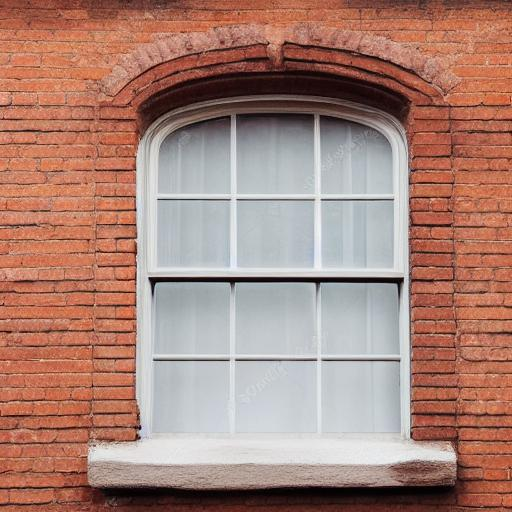Window: (86, 26, 463, 491)
